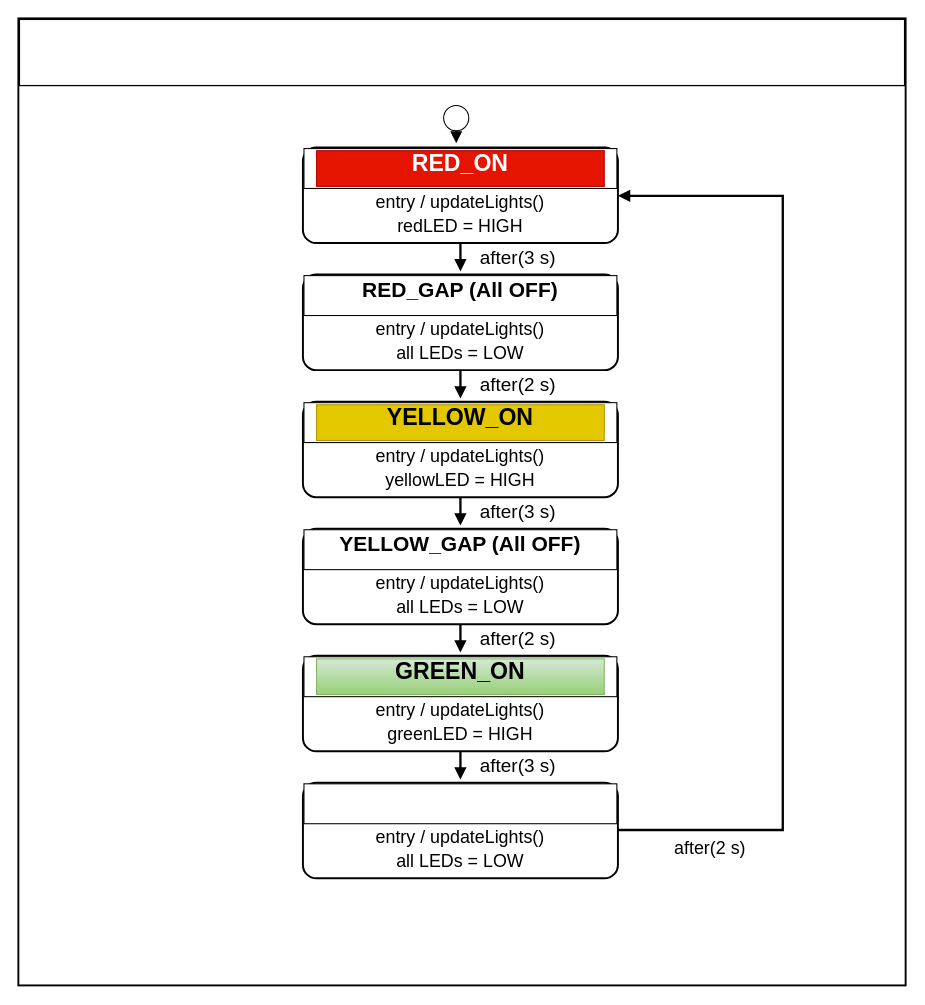
Image size: 925x1005. Some labels were removed from this diagram. Here are the shapes that lost their labels. From the top down, the centre of each, then its label:
(x=461, y=52): UML State Machine Diagram
(x=460, y=803): GREEN_GAP (All OFF)
